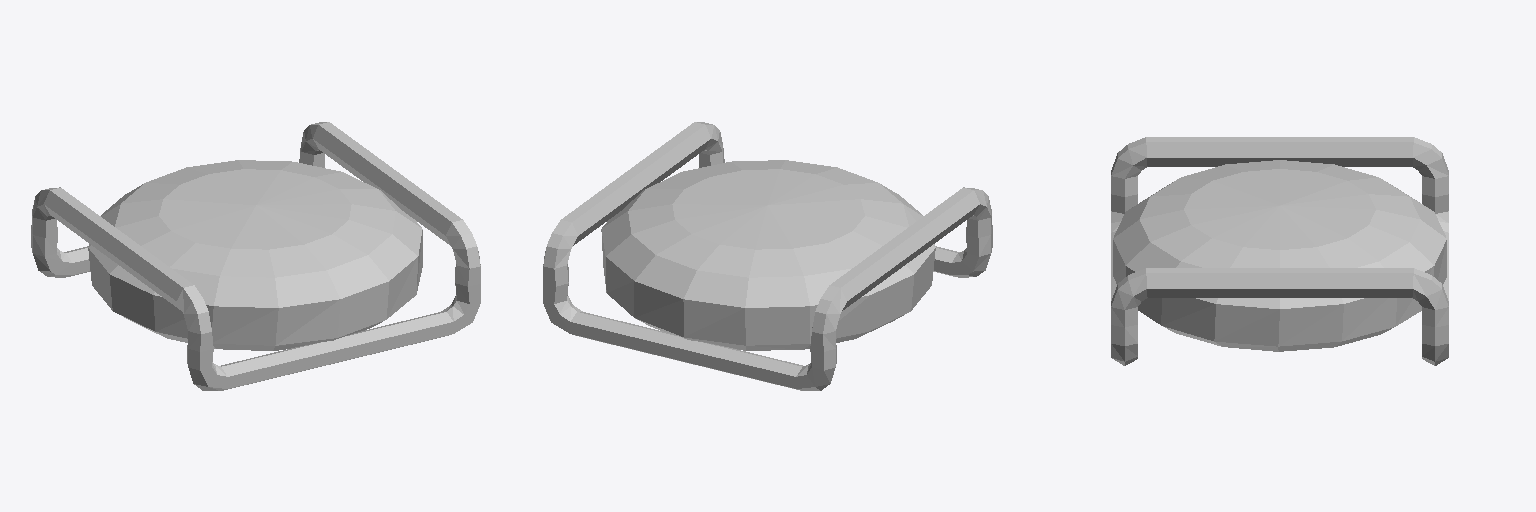
File: fant_gyroscrope3x3.obj
3 renders of one model, left to right at view 1: azimuth 30°, elevation 25°; view 2: azimuth 150°, elevation 25°; view 3: azimuth 270°, elevation 25°, orthographic.
Visible parts, largest first — view 1: fant_gyroscope_3x3_Mesh.003; view 2: fant_gyroscope_3x3_Mesh.003; view 3: fant_gyroscope_3x3_Mesh.003.
Part boxes in pixels (x1,y1,x2,y2): fant_gyroscope_3x3_Mesh.003: (31,122,480,390); fant_gyroscope_3x3_Mesh.003: (543,122,992,390); fant_gyroscope_3x3_Mesh.003: (1111,137,1448,365).
Bounding box in the file's own units: 3.01 × 1 × 3.